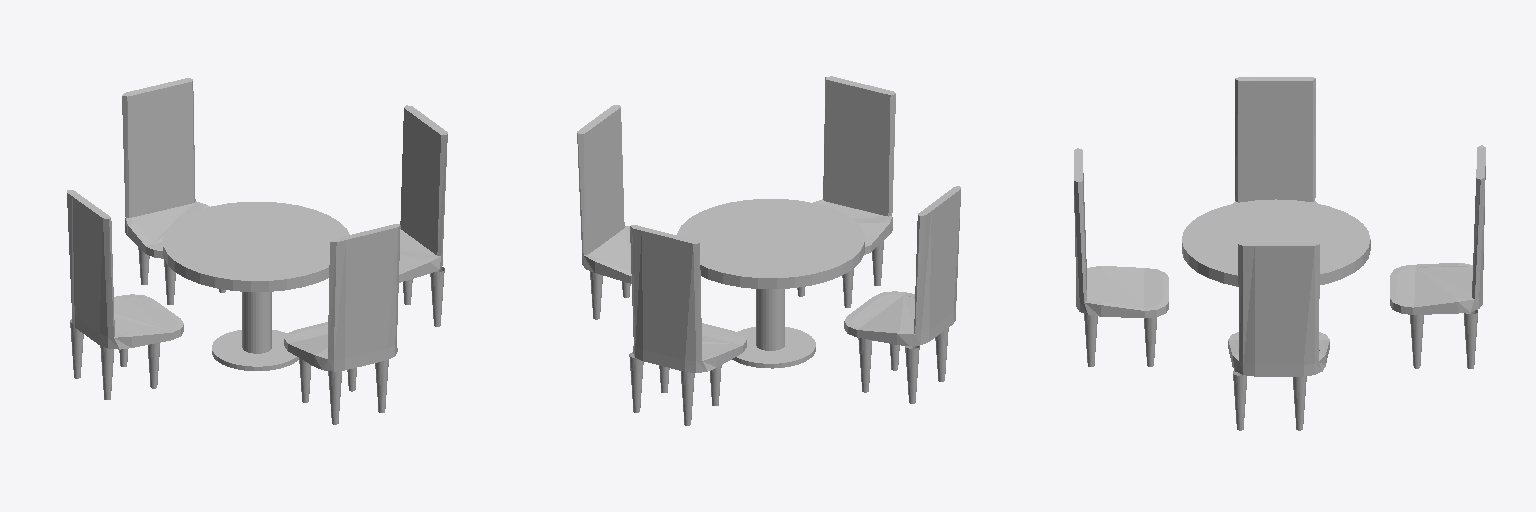
File: table_1.obj
3 views of the same model, side by side, from view 1: azimuth 30°, elevation 25°; view 2: azimuth 150°, elevation 25°; view 3: azimuth 270°, elevation 25° (orthographic).
Visible parts, largest first — view 1: table, Cube, Cube.002, Cube.003, Cube.001, Cylinder.005, Cylinder.003, Cylinder.014, Cylinder.001; view 2: table, Cube.002, Cube, Cube.003, Cube.001, Cylinder.013, Cylinder.009, Cylinder.010, Cylinder.015; view 3: Cube.001, table, Cube.003, Cube, Cube.002, Cylinder.009, Cylinder.005, Cylinder.006, Cylinder.011, Cylinder.001.
Boxes of the visible parts, box(x1,y1,x2,y2) form: table: box(163, 202, 349, 370); Cube: box(284, 224, 400, 371); Cube.002: box(122, 78, 209, 258); Cube.003: box(67, 190, 183, 349); Cube.001: box(399, 105, 447, 282); Cylinder.005: box(430, 267, 444, 326); Cylinder.003: box(328, 371, 341, 424); Cylinder.014: box(100, 346, 113, 399); Cylinder.001: box(375, 360, 388, 412); table: box(677, 199, 864, 368); Cube.002: box(630, 225, 746, 372); Cube: box(813, 76, 895, 254); Cube.003: box(844, 186, 960, 346); Cube.001: box(577, 105, 631, 283); Cylinder.013: box(905, 346, 919, 403); Cylinder.009: box(629, 352, 643, 412); Cylinder.010: box(681, 371, 694, 425); Cylinder.015: box(858, 338, 872, 392); Cube.001: box(1228, 243, 1329, 376); table: box(1182, 199, 1370, 286); Cube.003: box(1233, 77, 1317, 203); Cube: box(1074, 148, 1168, 318); Cube.002: box(1390, 145, 1485, 314); Cylinder.009: box(1464, 310, 1477, 368); Cylinder.005: box(1233, 371, 1246, 430); Cylinder.006: box(1293, 376, 1306, 430); Cylinder.011: box(1410, 315, 1423, 368); Cylinder.001: box(1084, 314, 1097, 366).
Size of the model in its own units: 30.41 by 15.83 by 31.26.